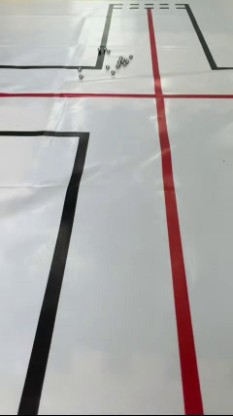ironball: (120, 55, 130, 67), (103, 45, 112, 55), (95, 43, 102, 55), (126, 51, 135, 60), (75, 63, 83, 72), (114, 61, 122, 70), (102, 61, 109, 71), (76, 71, 84, 79), (108, 69, 115, 76), (116, 54, 123, 61)
